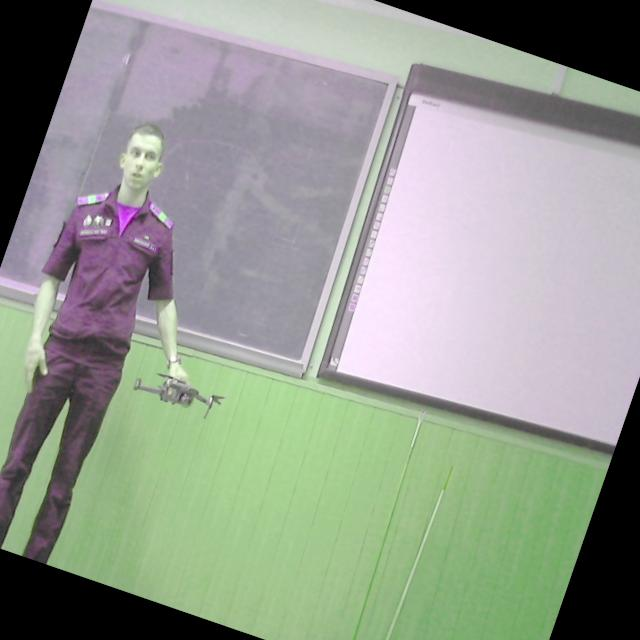drone: (117, 348, 230, 432)
